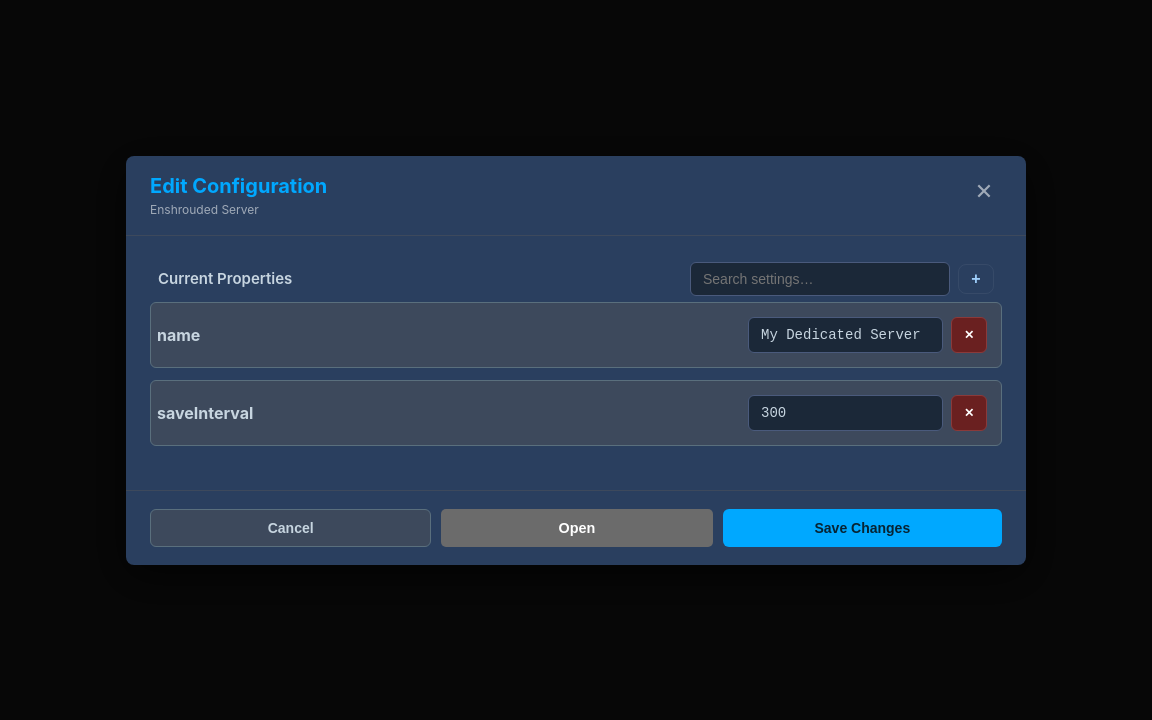
Scenario: ConfigEditor › filters by value match
Check: the text "saveInterval" is shown, box [157,402,253,422]
In the search field labelled "Search settings": (820, 278) [690,262,950,296], type "Dedicated"
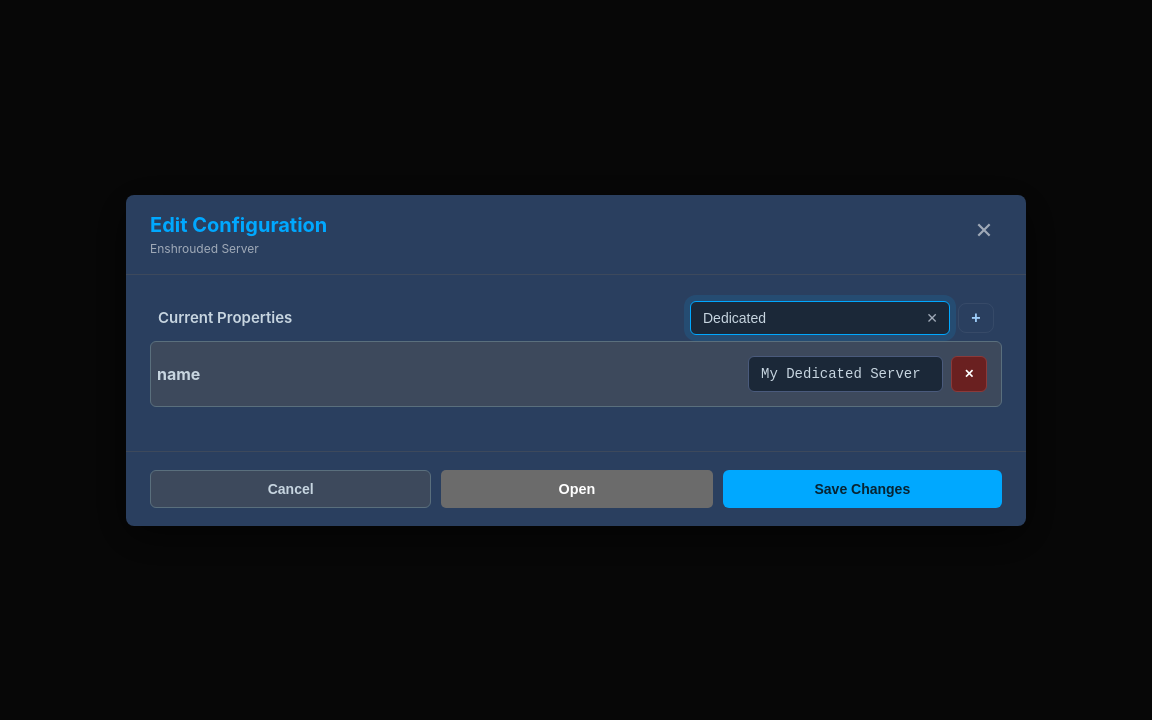
Check: the text "name" is shown, box [157,364,200,384]
Check: the text "saveInterval" is gone
